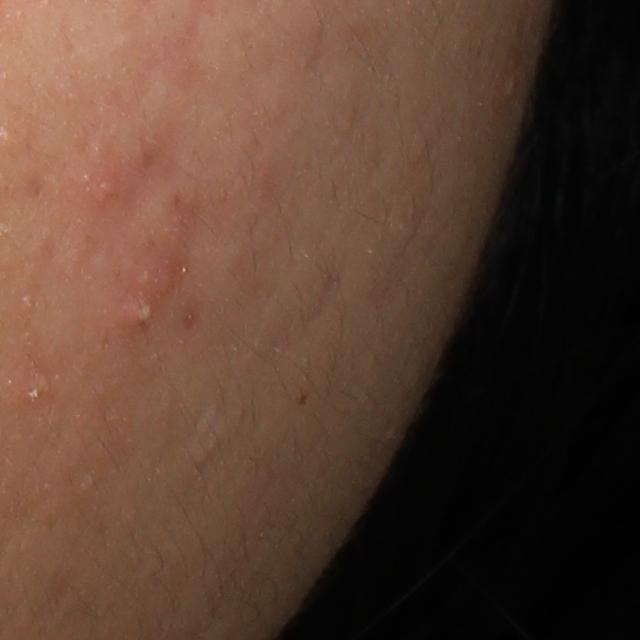pustule: (116, 300, 156, 331)
